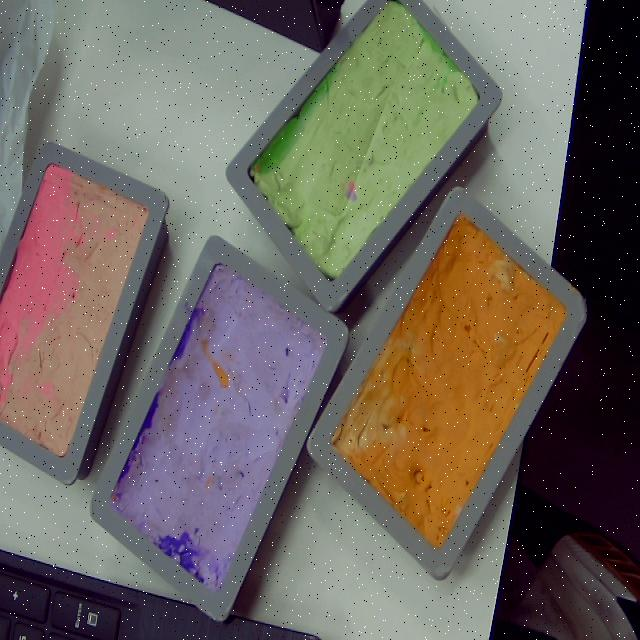block: (302, 189, 586, 585), (88, 236, 346, 624), (226, 1, 503, 315), (1, 140, 172, 488)
